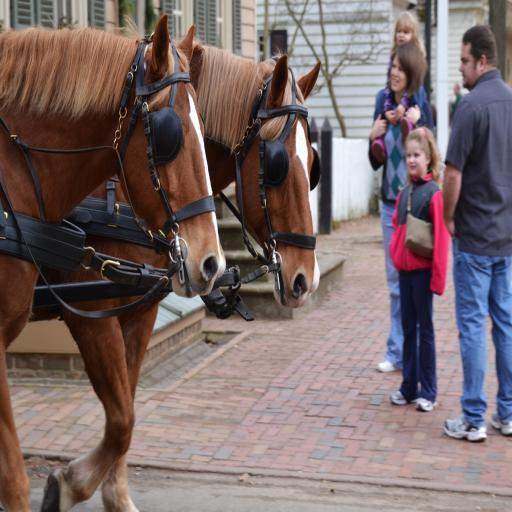horse: (30, 31, 322, 512)
